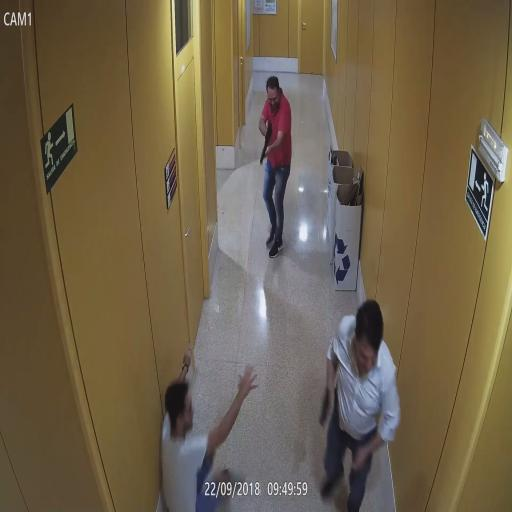Handgun: (318, 384, 333, 432)
